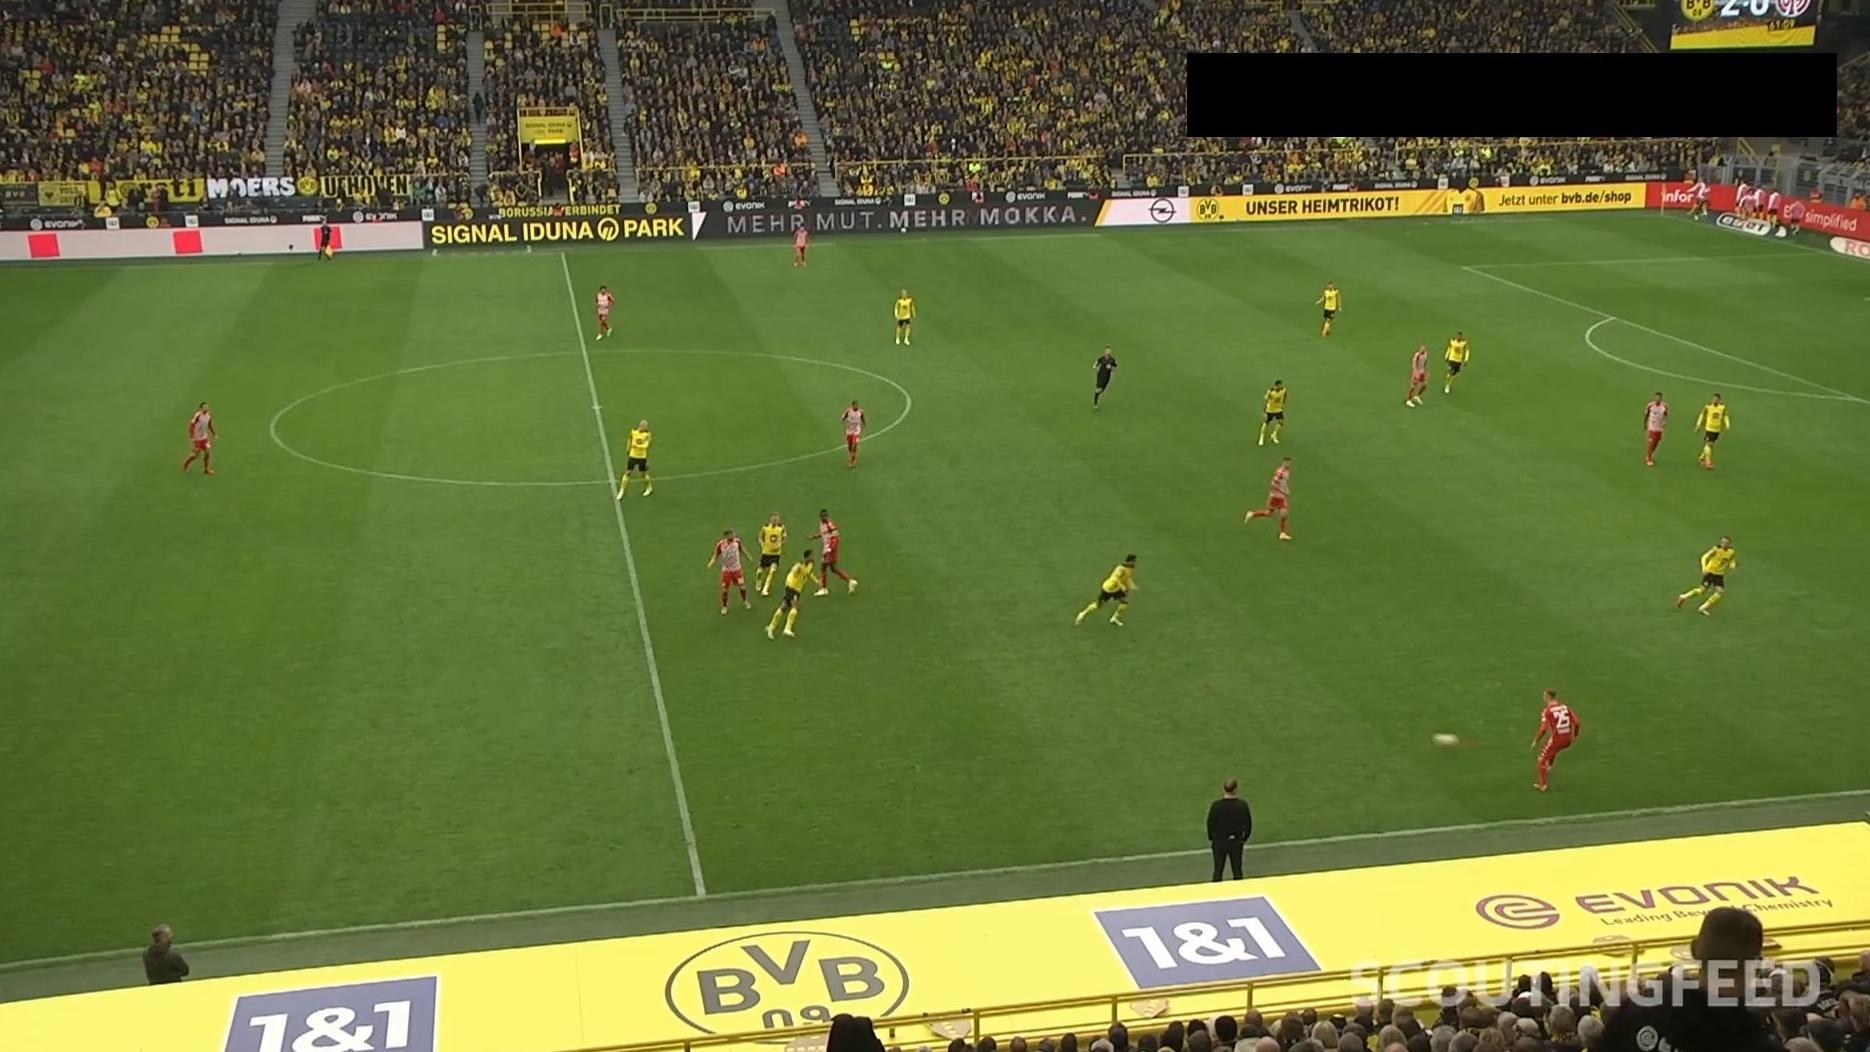ball: (1428, 732, 1463, 749)
